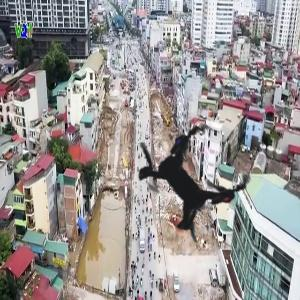drone: (82, 77, 288, 283)
